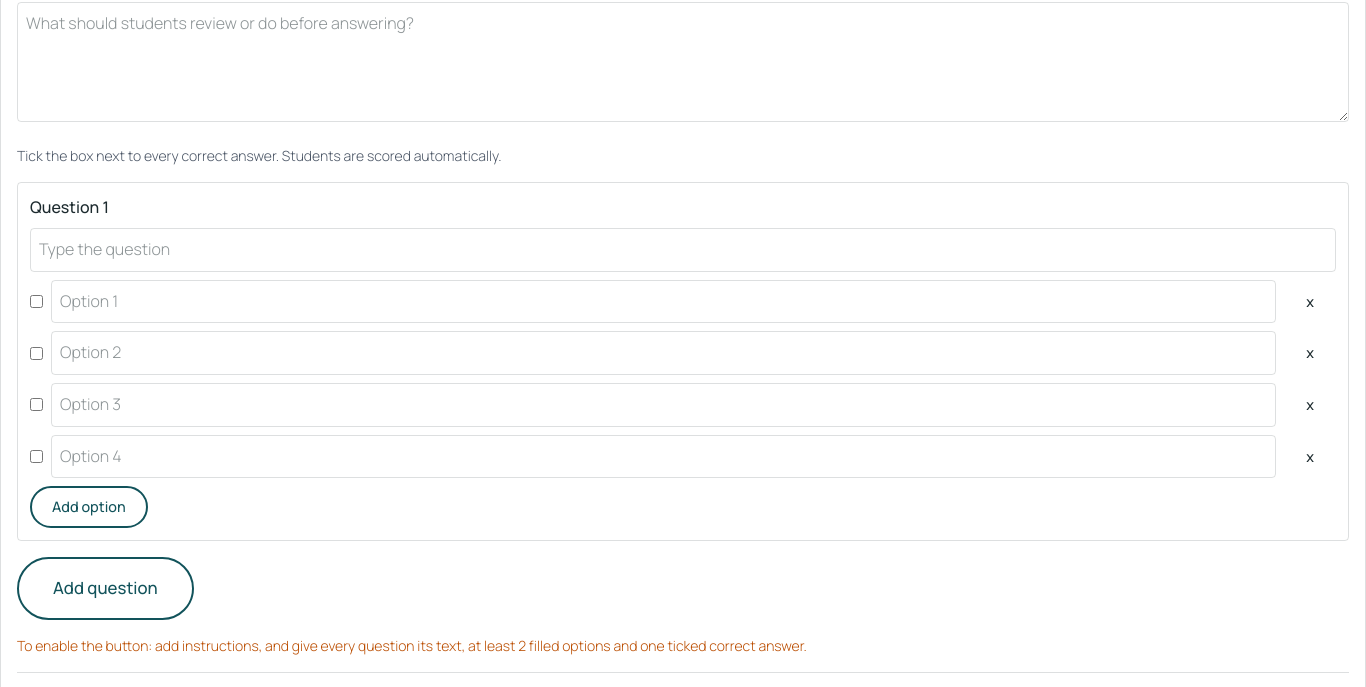
QuizBuilder › numbers questions automatically and renumbers after removal
(page scrolled)
What coordinates should you click on to do the following:
click the button "Add question"
I would click on:
 (105, 588)
Its box is x1=17 y1=557 x2=194 y2=620.
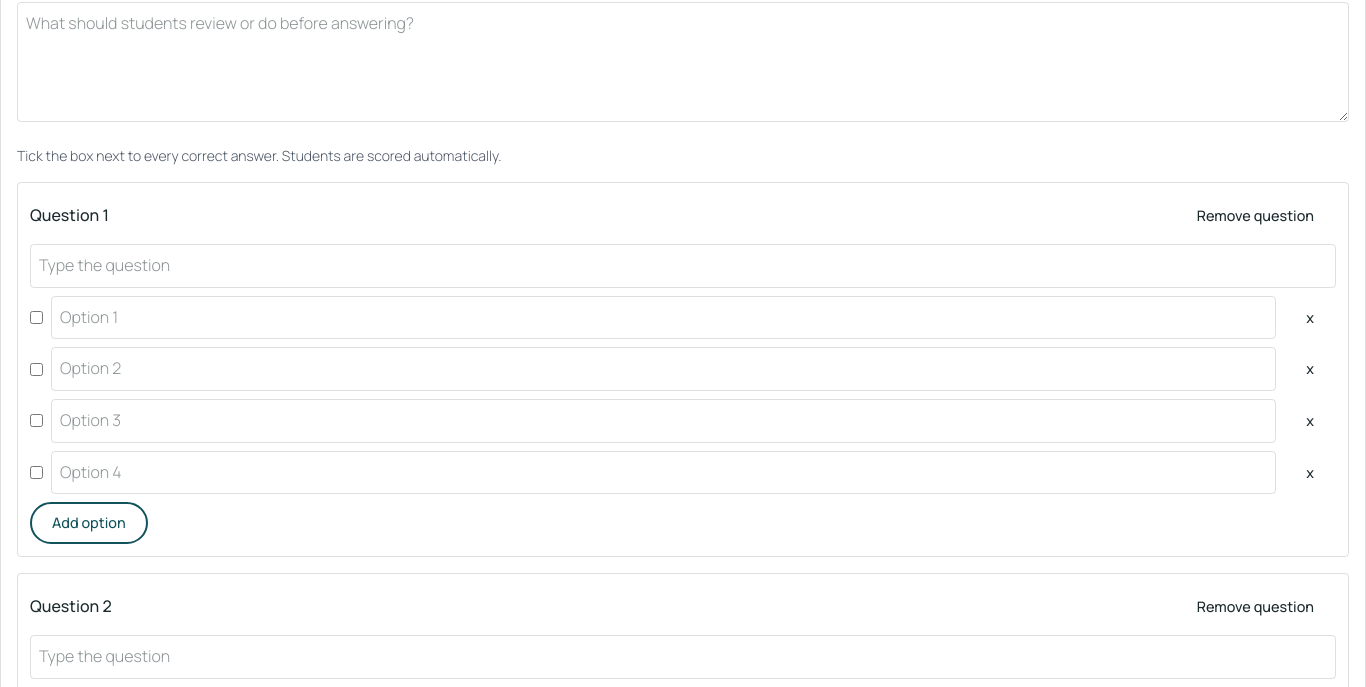
Now the field named "Question 2" is shown, box x1=30 y1=635 x2=1336 y2=679
What coordinates should you click on to do the following:
click the 1st button "Remove question"
I would click on:
 (1255, 215)
Its box is x1=1175 y1=195 x2=1336 y2=236.
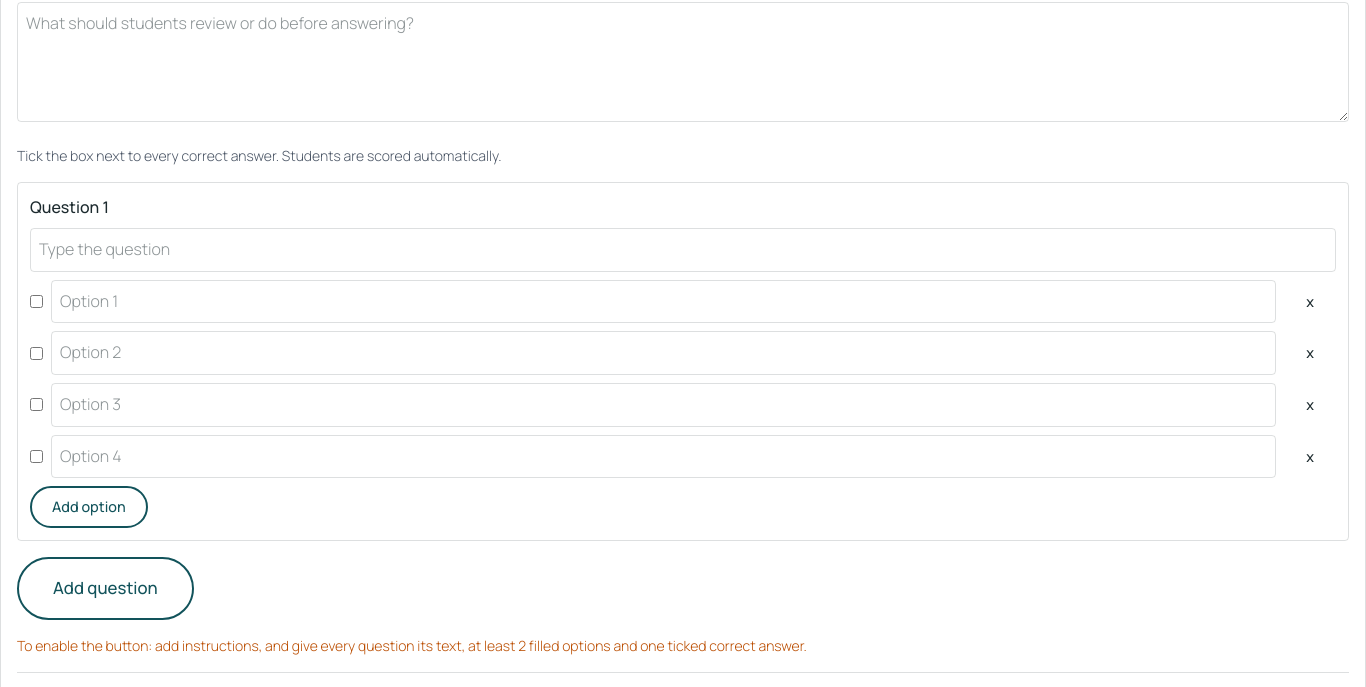
Expected: the field named "Question 1" is shown, x1=30 y1=228 x2=1336 y2=272
Now the text labelled "Question 2" is gone
